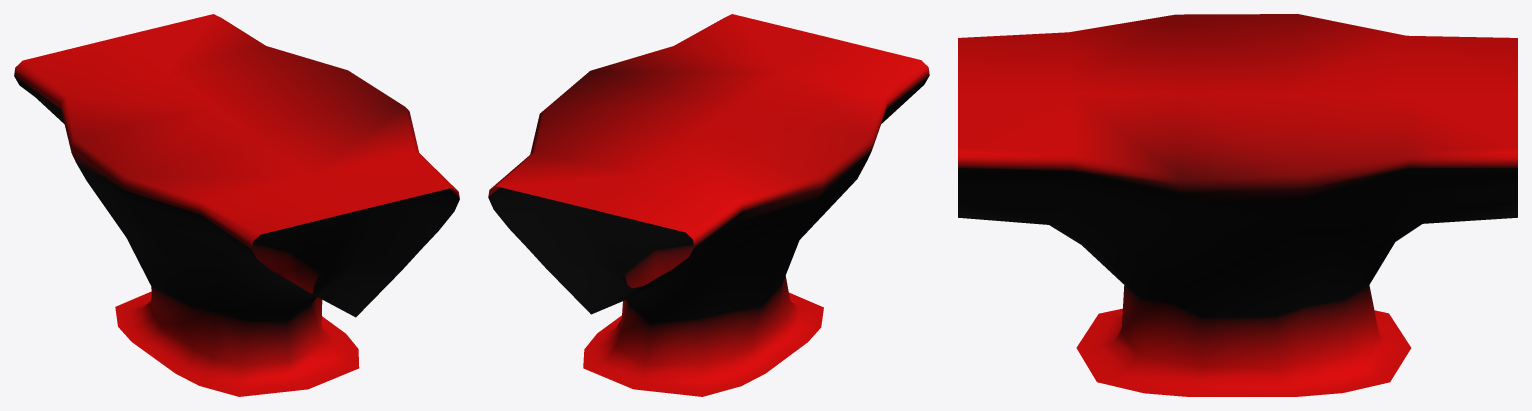
The model's file is CrossingCliff01D 1M Background.fbx.
3 views of the same model, side by side, from view 1: azimuth 30°, elevation 25°; view 2: azimuth 150°, elevation 25°; view 3: azimuth 270°, elevation 25° (orthographic). The views are drawn at different scales.
Visible parts, largest first — view 1: CrossingCliff01D 1M Background; view 2: CrossingCliff01D 1M Background; view 3: CrossingCliff01D 1M Background.
Boxes of the visible parts, x1,y1,x2,y2 form: CrossingCliff01D 1M Background: [14, 14, 459, 396]; CrossingCliff01D 1M Background: [488, 14, 929, 396]; CrossingCliff01D 1M Background: [958, 14, 1517, 396].
Bounding box in the file's own units: 1.4 × 1 × 2.
